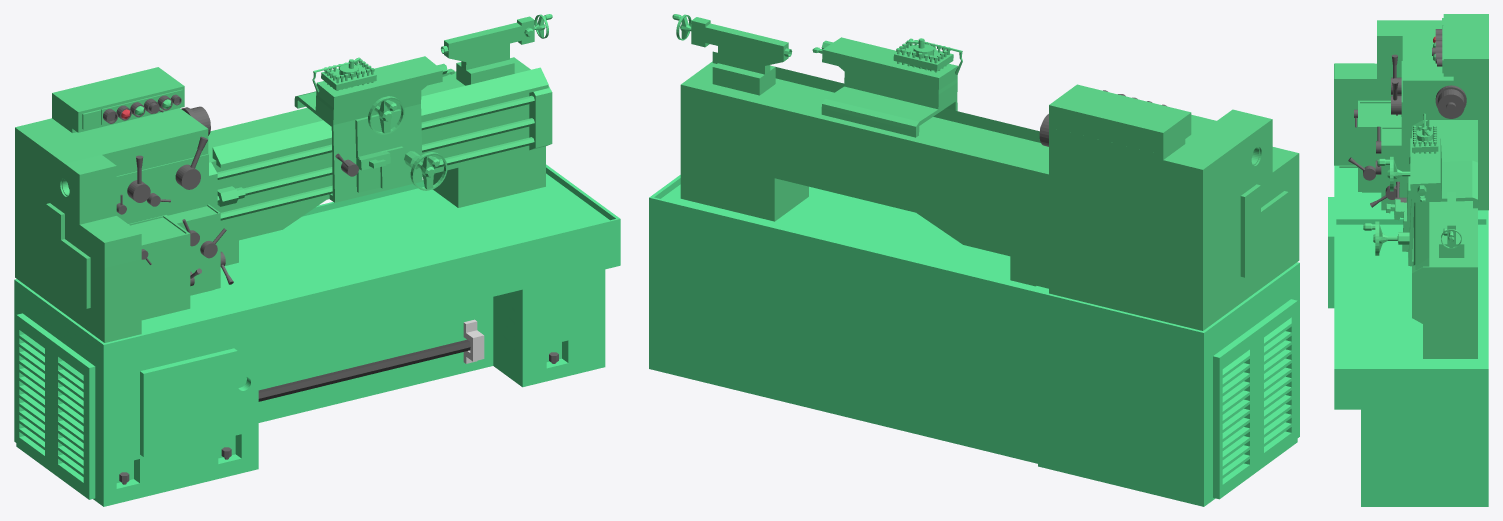
Rendered from MESIN BUBUT.fbx.
3 renders of one model, left to right at view 1: azimuth 30°, elevation 25°; view 2: azimuth 150°, elevation 25°; view 3: azimuth 270°, elevation 25°, orthographic. The views are drawn at different scales.
Visible parts, largest first — view 1: Cube, Cube.005, Cube.003, Cube.004, Cube.001; view 2: Cube, Cube.005, Cube.003; view 3: Cube, Cube.003, Cube.005.
Part boxes in pixels (left/top/right/bottom): Cube: left=14, top=164, right=620, bottom=506; Cube.005: left=208, top=14, right=552, bottom=265; Cube.003: left=15, top=67, right=233, bottom=342; Cube.004: left=258, top=339, right=470, bottom=401; Cube.001: left=463, top=319, right=484, bottom=363; Cube: left=649, top=175, right=1299, bottom=506; Cube.005: left=672, top=14, right=1048, bottom=288; Cube.003: left=1039, top=84, right=1299, bottom=330; Cube: left=1328, top=165, right=1488, bottom=506; Cube.003: left=1334, top=14, right=1488, bottom=210; Cube.005: left=1363, top=113, right=1478, bottom=358.
Bounding box in the file's own units: 676 × 419 × 208.
